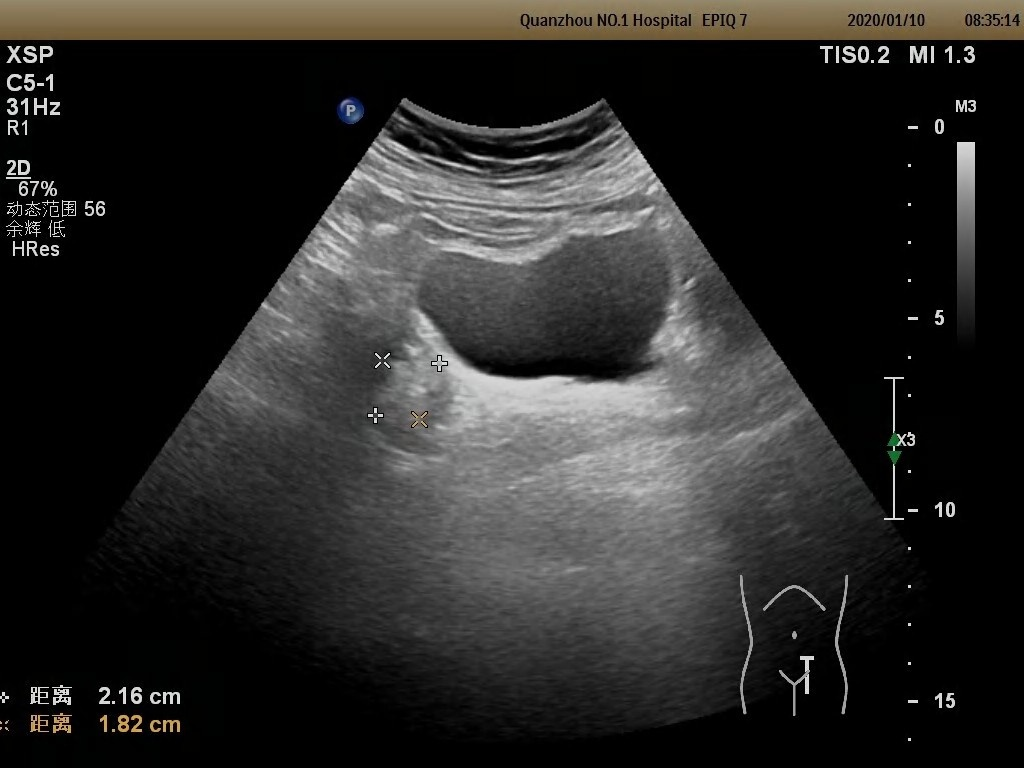肌瘤: (375, 356, 448, 424)
